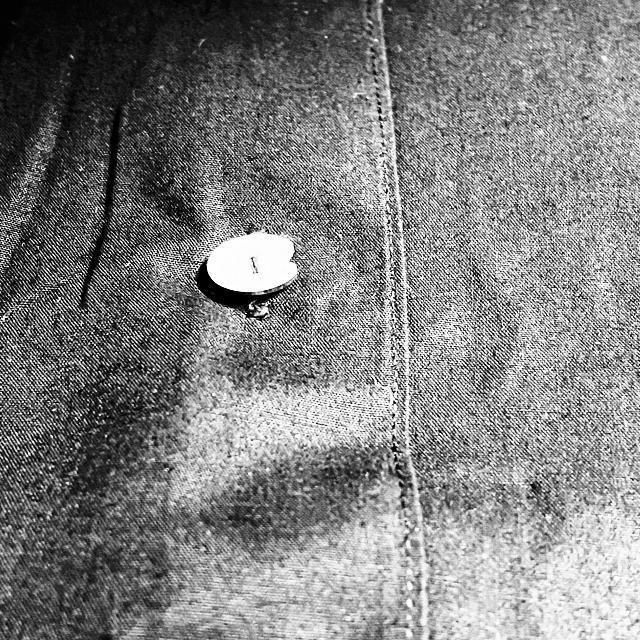Broken_button: (191, 218, 306, 310)
